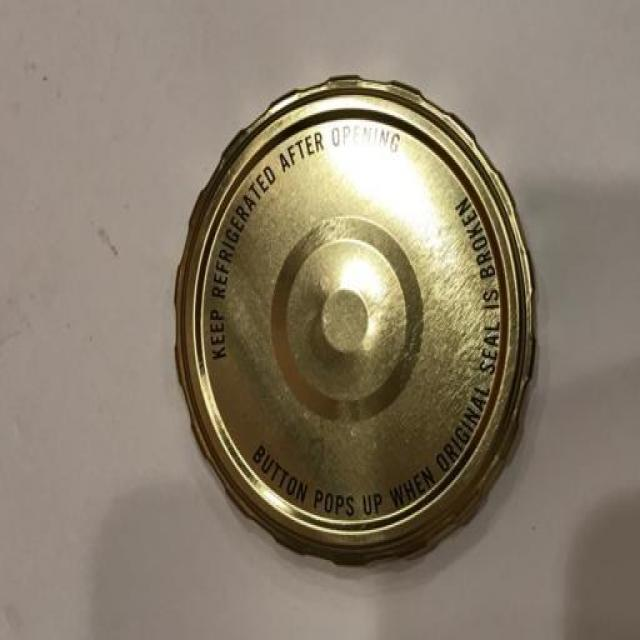metel: (169, 61, 565, 591)
